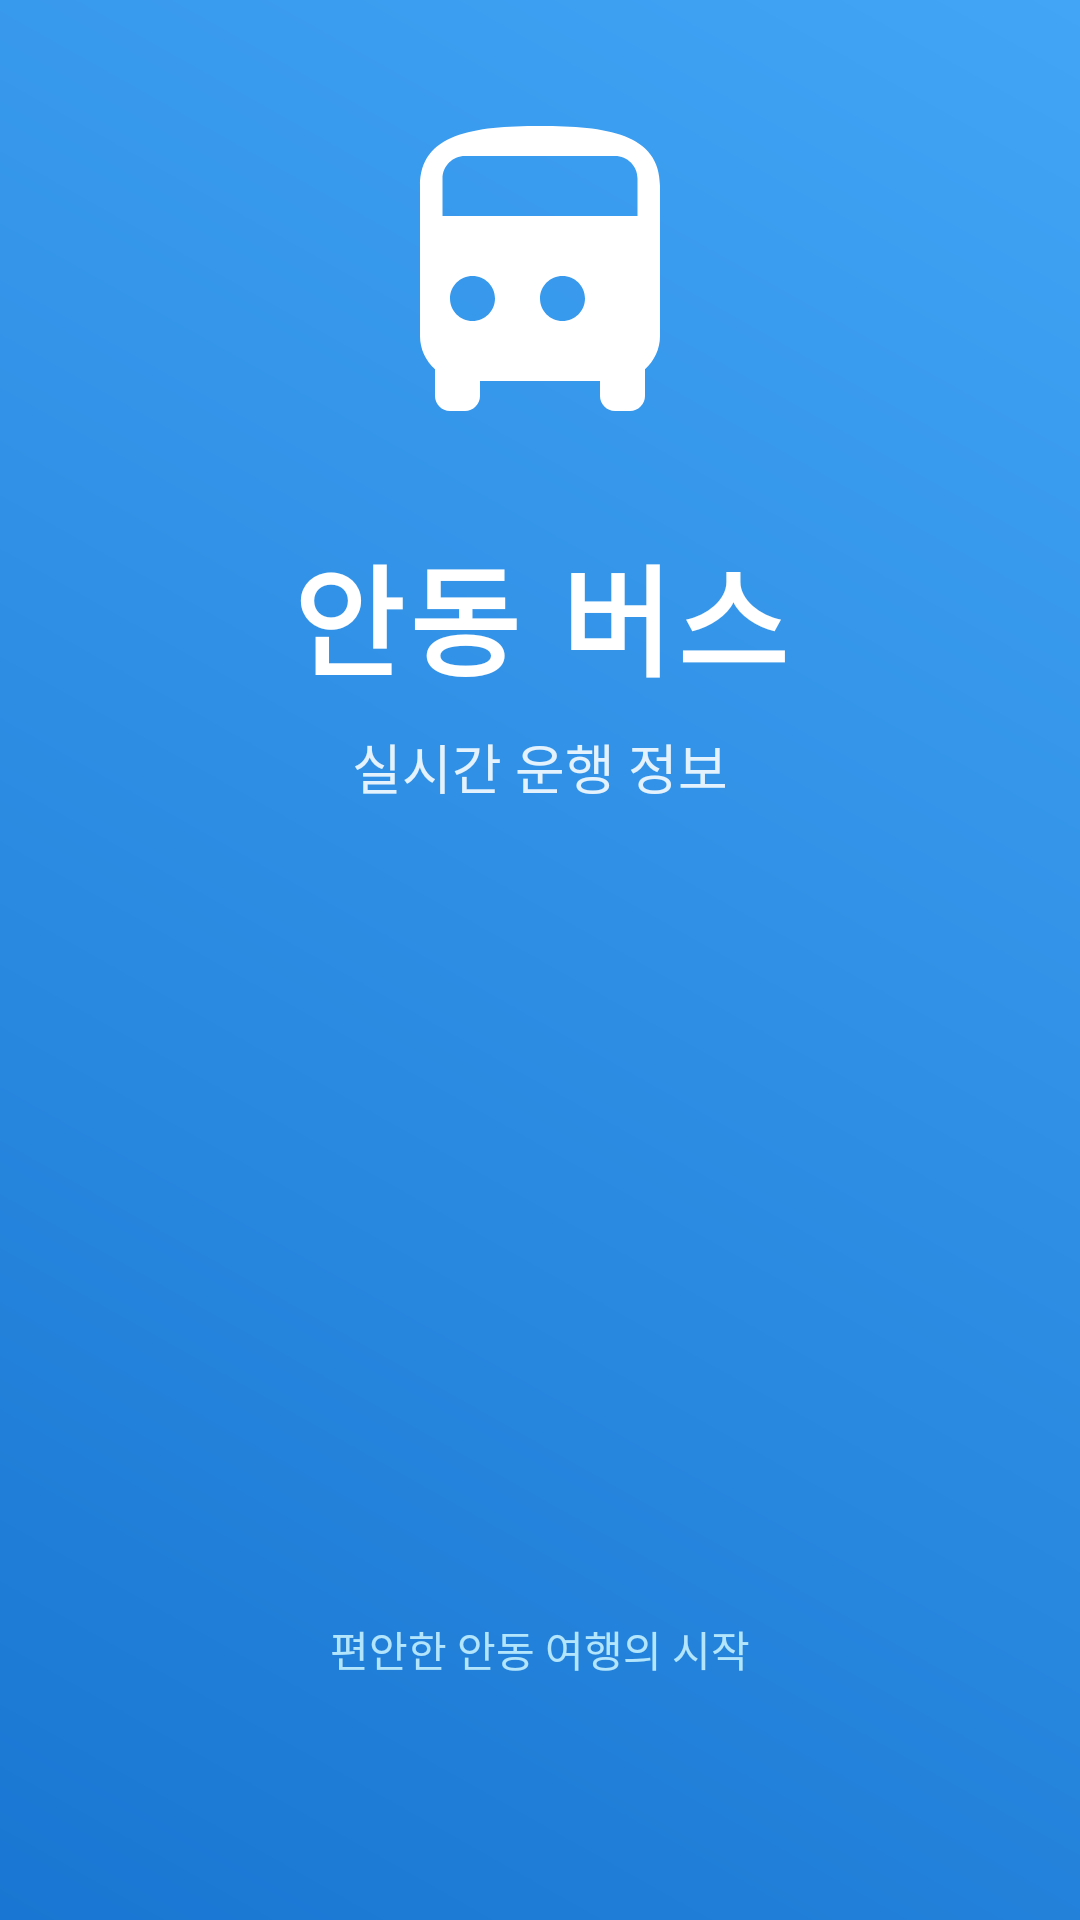

Where icons sit on this 1080w x 1920h app screen, as (x1, y1, x2, y2):
Bus Icon: (420, 126, 660, 411)
